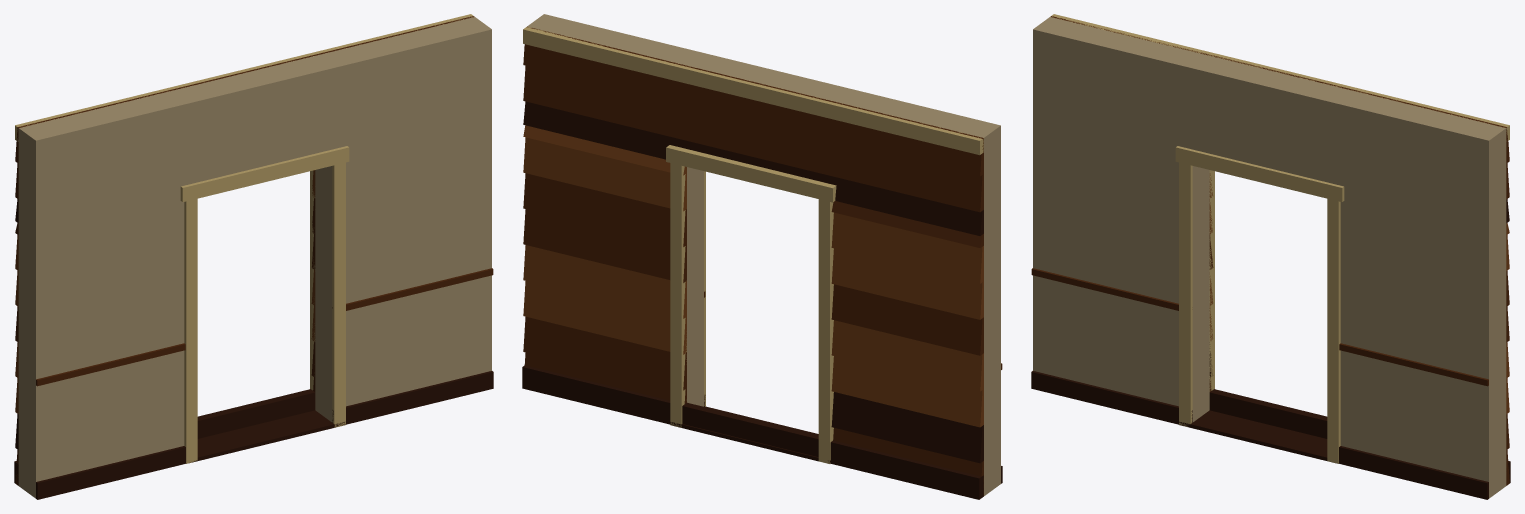
The model's file is SM_Bld_Wall_Doorway.glb.
3 renders of one model, left to right at view 1: azimuth 30°, elevation 25°; view 2: azimuth 150°, elevation 25°; view 3: azimuth 330°, elevation 25°, orthographic.
Parts seen in each view (by area): view 1: SM_Bld_Wall_Doorway; view 2: SM_Bld_Wall_Doorway; view 3: SM_Bld_Wall_Doorway.
Boxes of the visible parts, box(x1,y1,x2,y2) form: SM_Bld_Wall_Doorway: box(14, 14, 493, 499); SM_Bld_Wall_Doorway: box(522, 14, 1002, 499); SM_Bld_Wall_Doorway: box(1031, 14, 1510, 499).
Bounding box in the file's own units: 4 × 3 × 0.38.
1 material, 1 textured.
